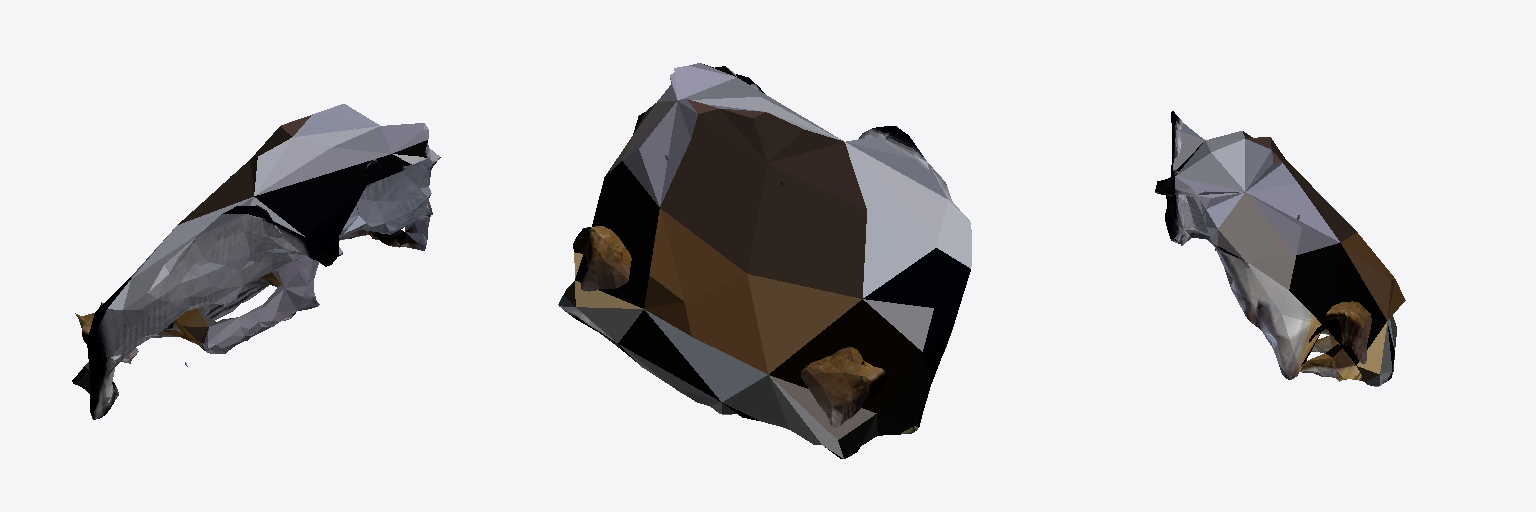
3 views of the same model, side by side, from view 1: azimuth 30°, elevation 25°; view 2: azimuth 150°, elevation 25°; view 3: azimuth 270°, elevation 25° (orthographic).
Parts seen in each view (by area): view 1: Group_Global; view 2: Group_Global; view 3: Group_Global.
Part boxes in pixels (x1,y1,x2,y2): Group_Global: (72,104,440,419); Group_Global: (558,63,971,458); Group_Global: (1155,111,1405,386).
Bounding box in the file's own units: 19.26 × 14.03 × 11.9.
Materials: 1 (1 with a texture image).